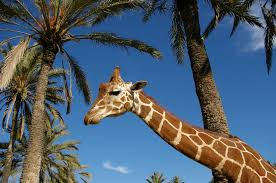Jirafa: (77, 59, 167, 144)
